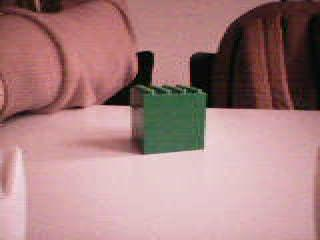legocube: (127, 83, 209, 157)
